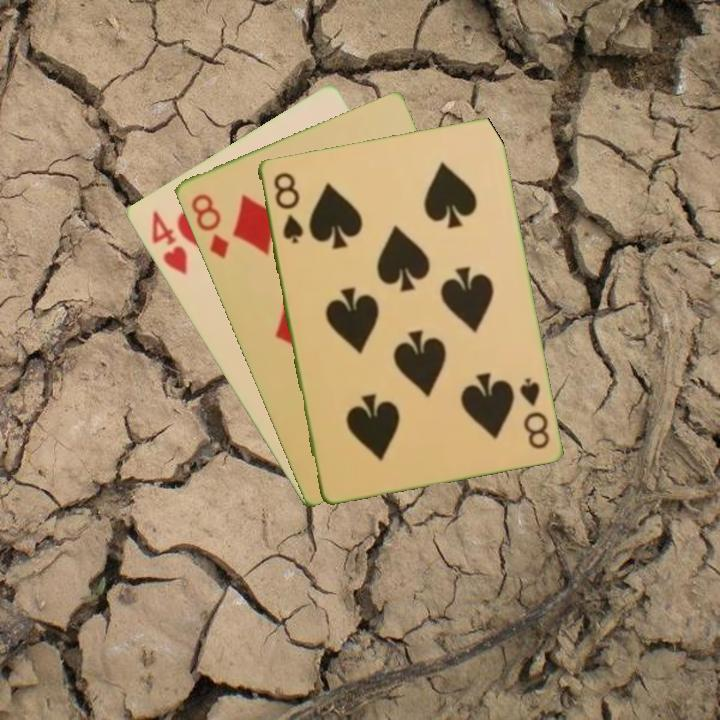4h: (147, 207, 190, 278)
8d: (187, 189, 232, 262)
8s: (269, 168, 306, 247), (515, 373, 552, 452)
